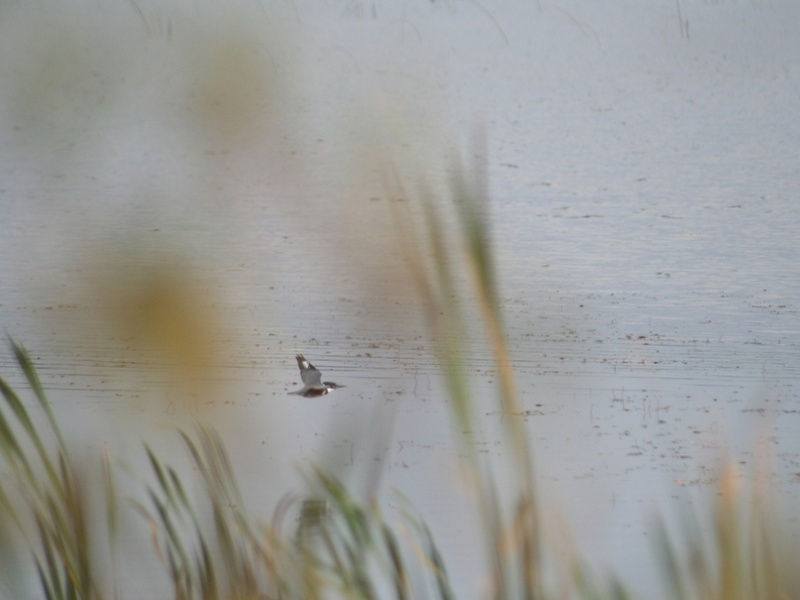kingfisher: (285, 351, 345, 399)
